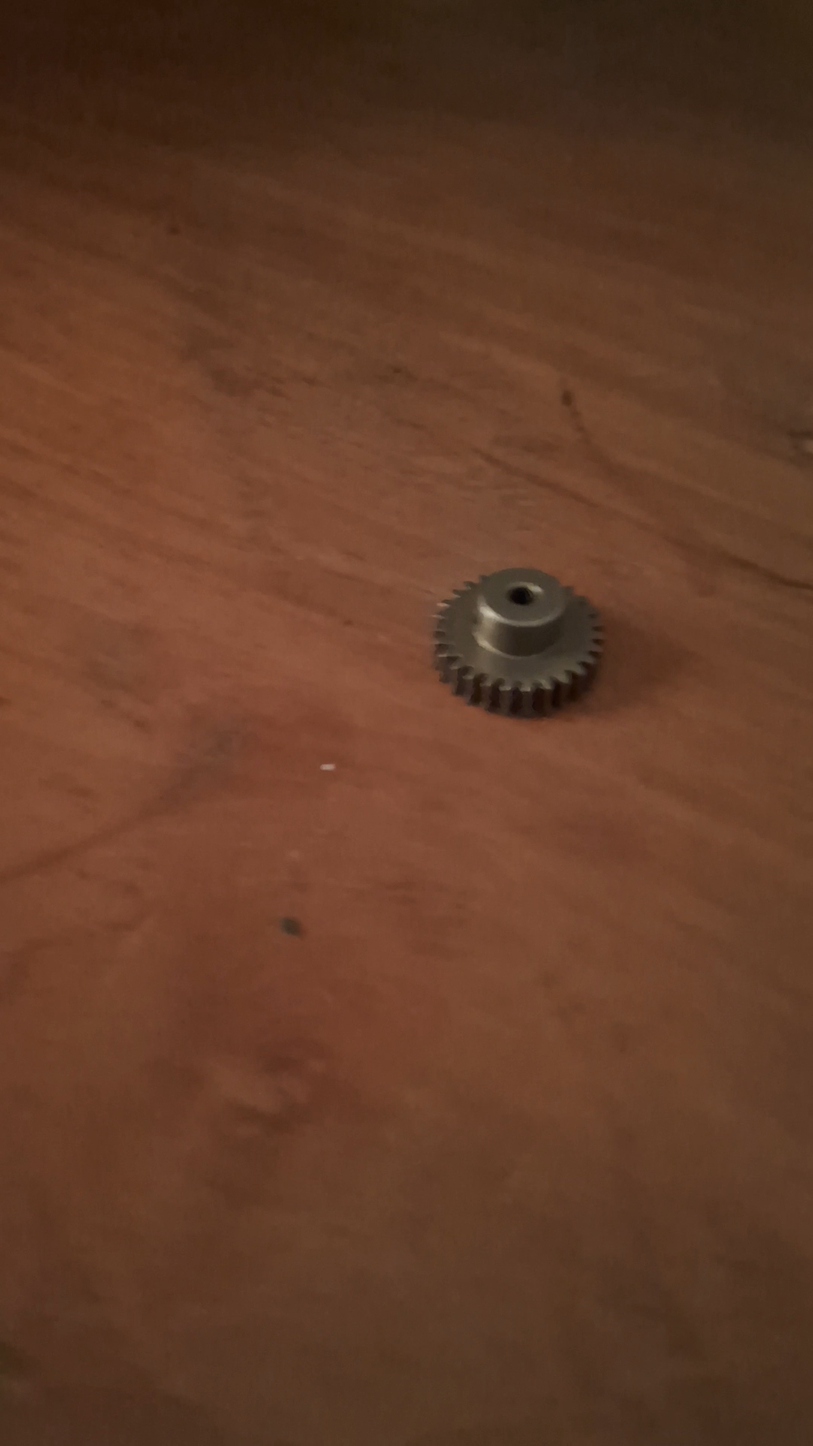spur gear: (434, 569, 602, 717)
